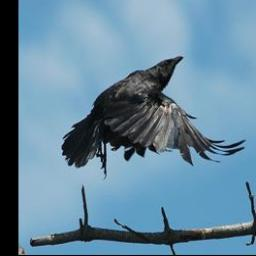Crow: (64, 53, 250, 181)
